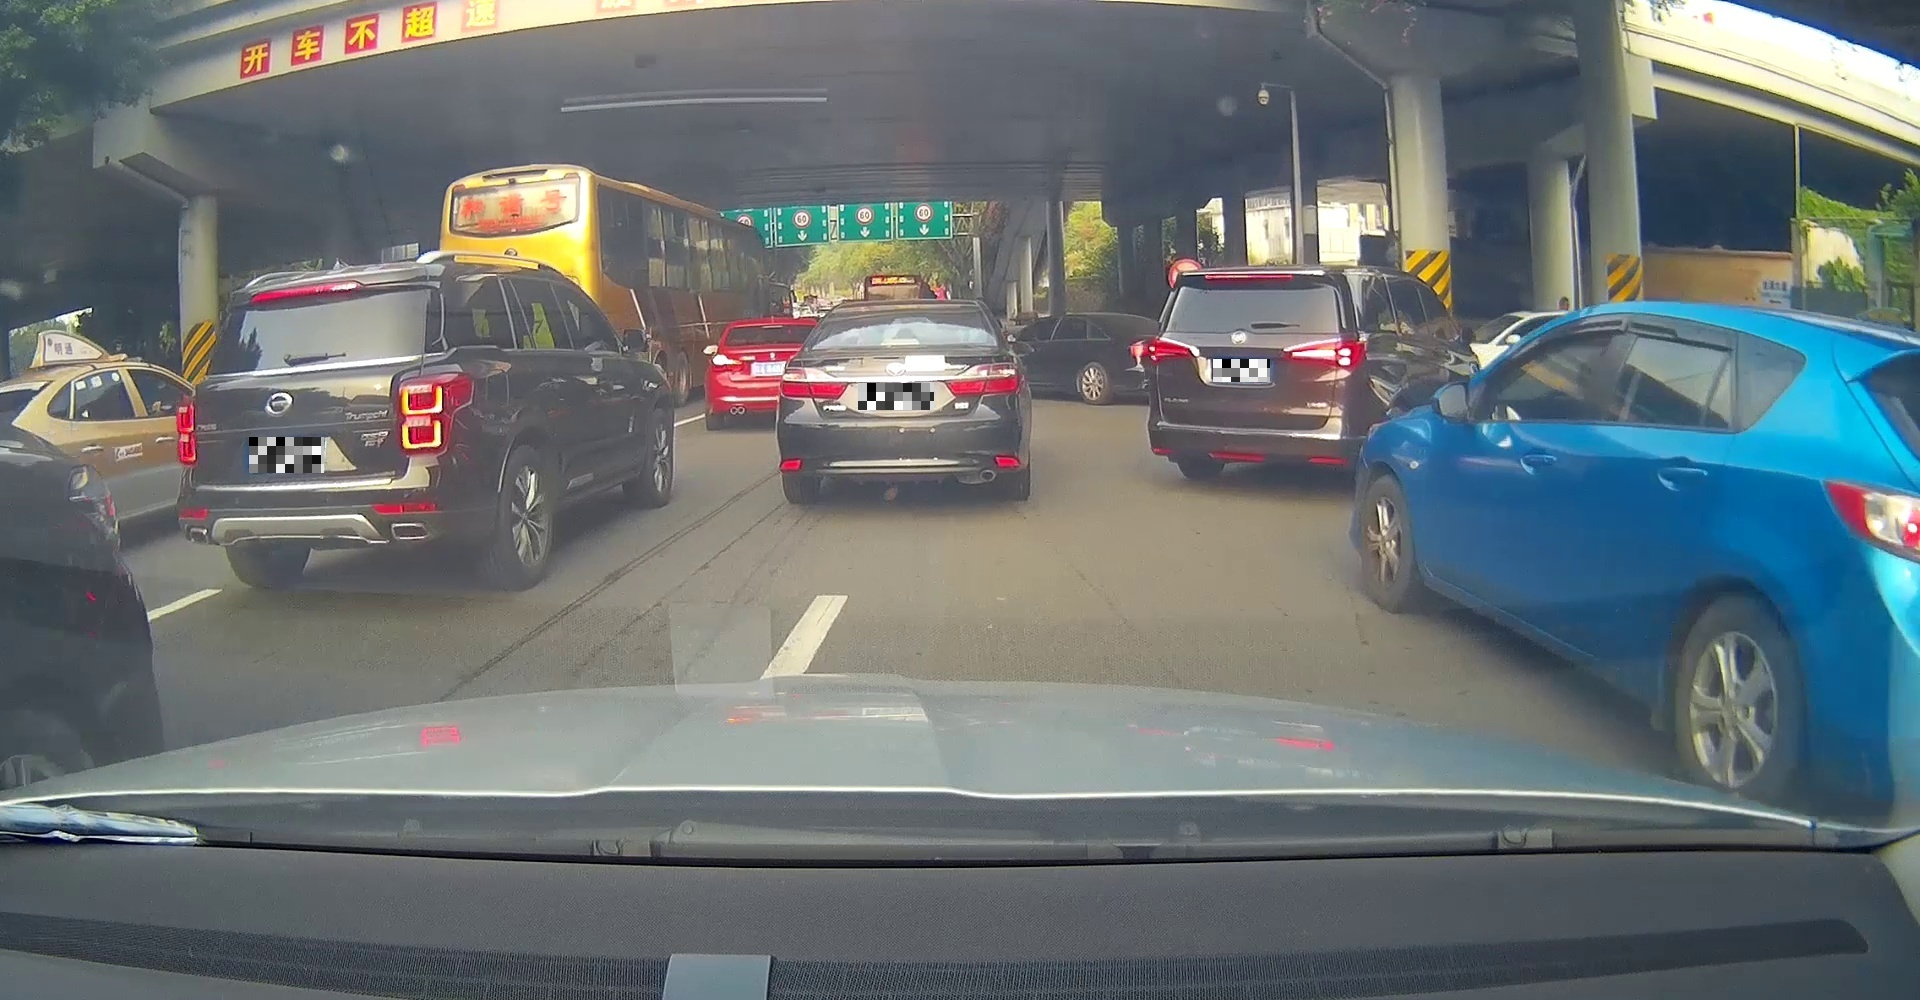L_light: (778, 367, 850, 400), (1147, 335, 1200, 363), (177, 395, 197, 464)
R_light: (395, 371, 472, 456), (1280, 336, 1365, 371), (943, 360, 1018, 396)
T_light: (250, 280, 362, 305), (1203, 273, 1291, 280), (879, 338, 921, 346)
day-brake: (174, 260, 480, 590)
day-no: (776, 298, 1023, 503)
day-right: (1145, 264, 1369, 485)
plate_1: (249, 437, 324, 473)
plate_2: (858, 383, 935, 410)
plate_3: (1213, 359, 1270, 382)
